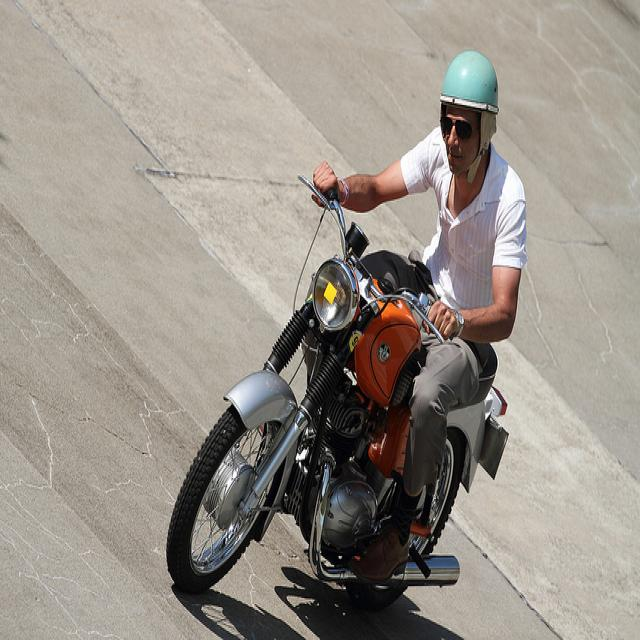motor: (168, 188, 510, 600)
